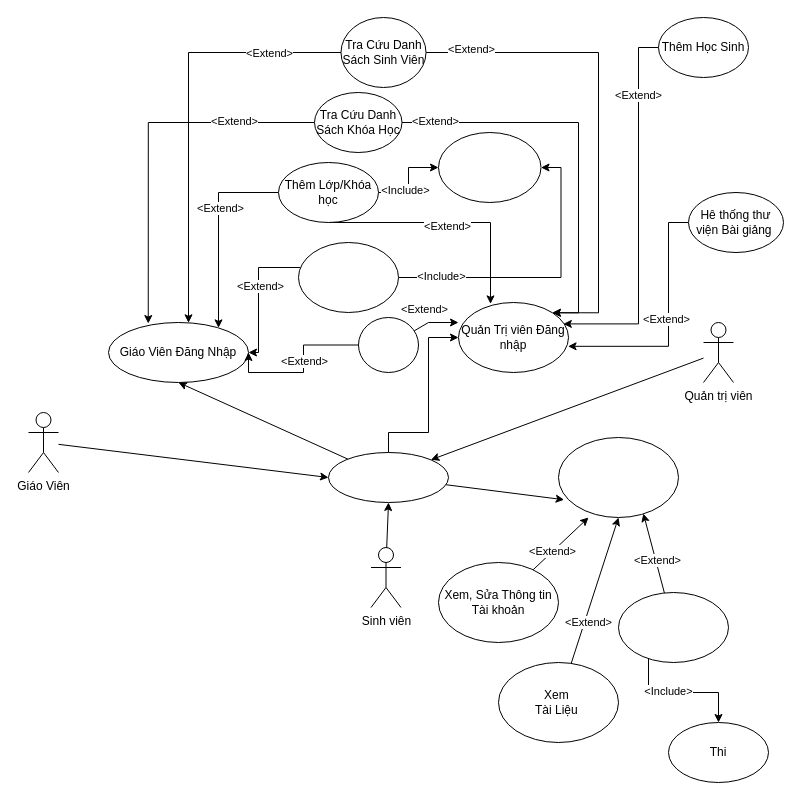
The diagram is 801 pixels wide and 800 high, and some of its shapes have lost their labels. The shapes that lost their labels are listed below. From the top down, each one's centre as x and y in pixels, then its label:
At point 489,167: "Gửi đến Hệ thống".
At point 348,277: "Nhận Xét của Giáo viên, Điểm".
At point 388,344: "Tra cứu Bài thi".
At point 388,477: "Đăng Nhập".
At point 618,477: "Sinh viên Đăng nhập".
At point 673,627: "Đăng Ký, Học lớp/khóa Học".
